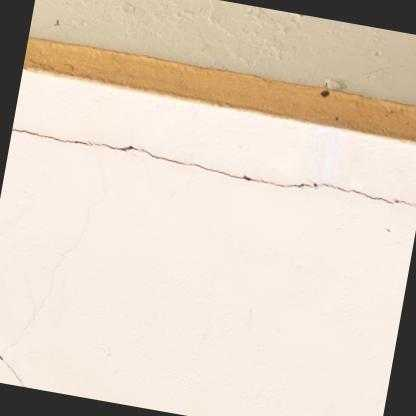crack: (86, 140, 416, 205), (11, 128, 87, 144), (0, 356, 25, 387)
